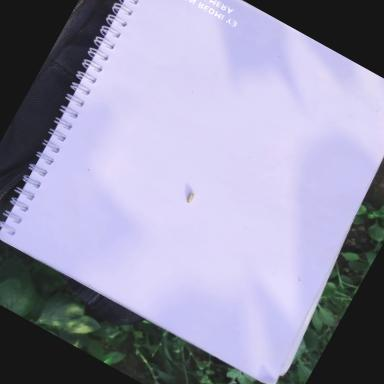pbw: (184, 191, 195, 205)
